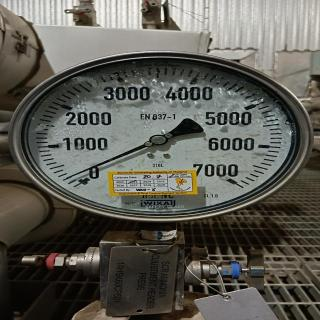gauge: (0, 46, 320, 229), (72, 176, 100, 195), (225, 176, 248, 196), (150, 134, 166, 146), (62, 176, 72, 182)
